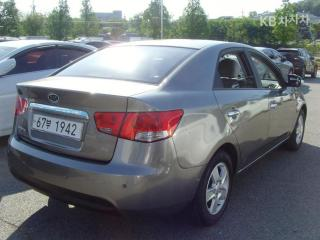1: (54, 120, 59, 132)
2: (71, 123, 77, 137)
4: (65, 122, 72, 134)
6: (36, 116, 42, 128)
7: (41, 117, 47, 128)
9: (59, 120, 66, 133)
부: (46, 119, 53, 129)
